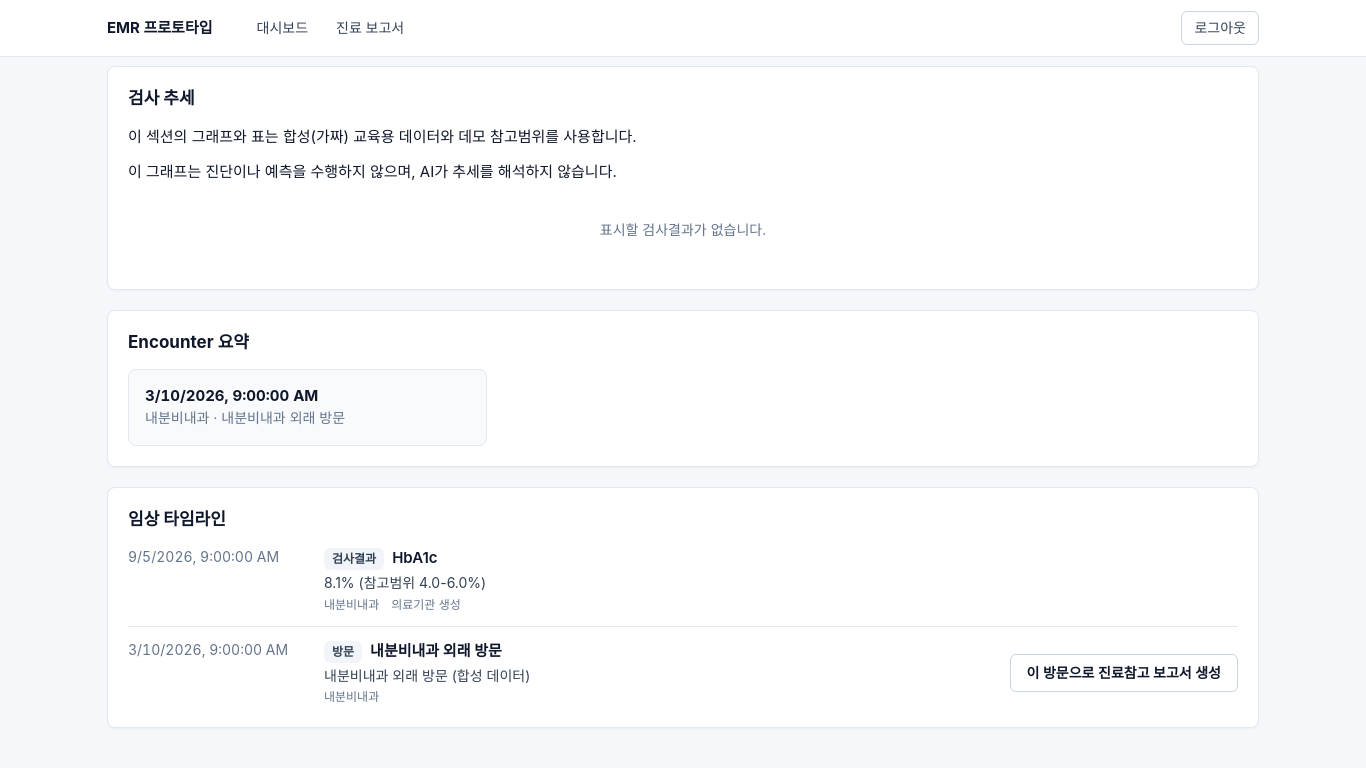
Test: PatientTimelinePage › shows a generic error and re-enables the button when report creation fails
(page scrolled)
Step 1. Click the button "이 방문으로 진료참고 보고서 생성" → (1124, 673), box 1010,654 -> 1238,692
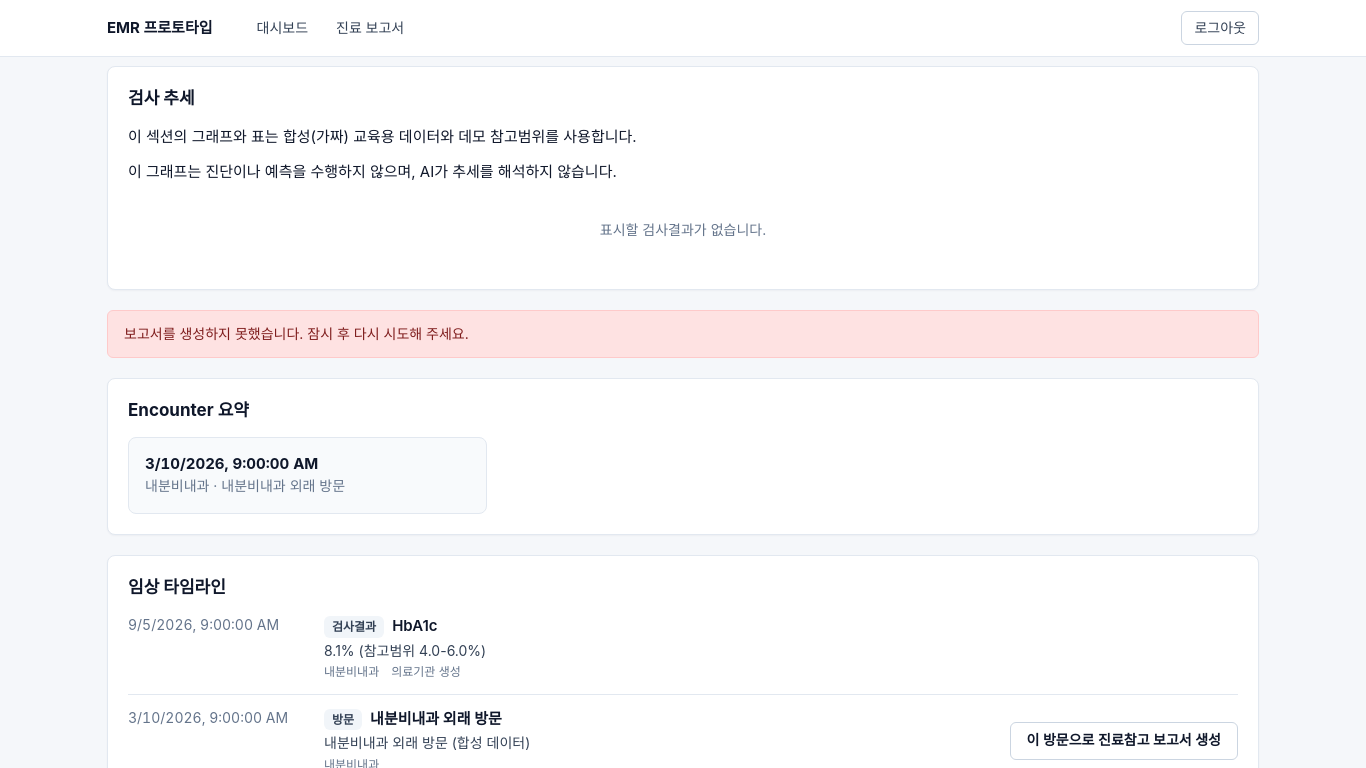
Expected: the button "이 방문으로 진료참고 보고서 생성" is enabled, 1010,722 -> 1238,760
Expected: the message reads "보고서를 생성하지 못했습니다. 잠시 후 다시 시도해 주세요.", 124,325 -> 469,342
